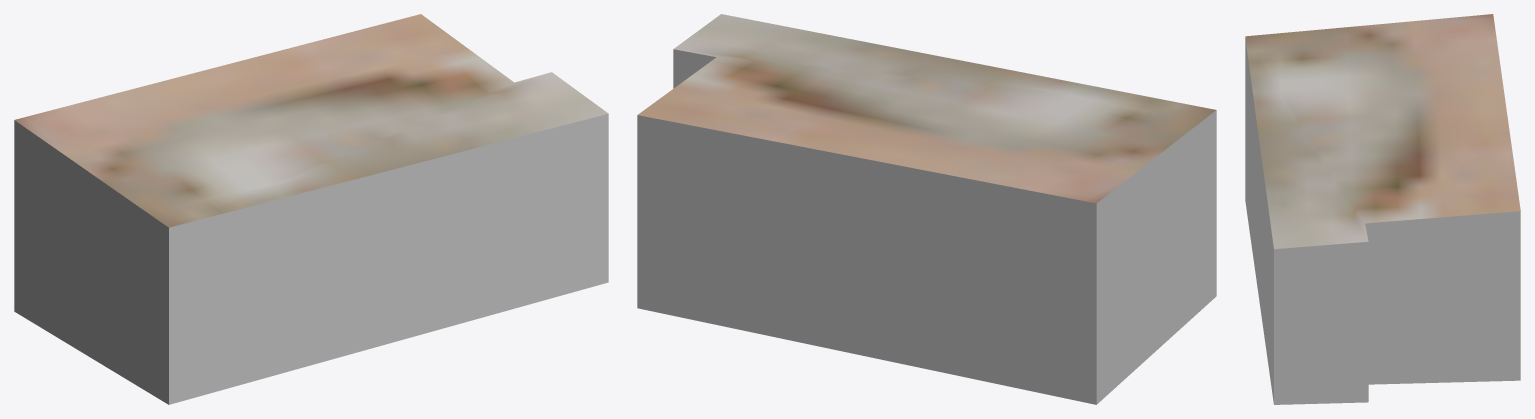
Rendered from DEBW_0010007THYL.gltf.
3 views of the same model, side by side, from view 1: azimuth 30°, elevation 25°; view 2: azimuth 150°, elevation 25°; view 3: azimuth 270°, elevation 25° (orthographic). The views are drawn at different scales.
Parts seen in each view (by area): view 1: Z_UP; view 2: Z_UP; view 3: Z_UP.
Part boxes in pixels (x1,y1,x2,y2): Z_UP: [14, 14, 608, 404]; Z_UP: [637, 14, 1216, 404]; Z_UP: [1245, 14, 1520, 404].
Size of the model in its own units: 4.23 by 1.63 by 2.3.
Materials: 2 (1 with a texture image).
